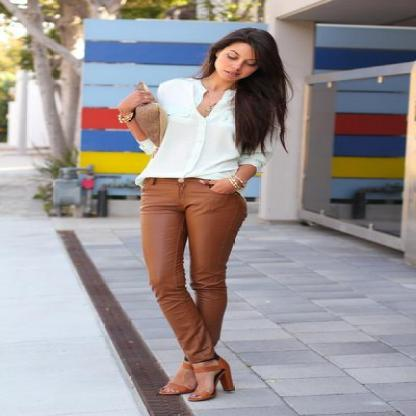bag: (133, 92, 168, 139)
pants: (141, 177, 255, 374)
shirt: (137, 78, 279, 180)
shoe: (180, 355, 233, 415)
